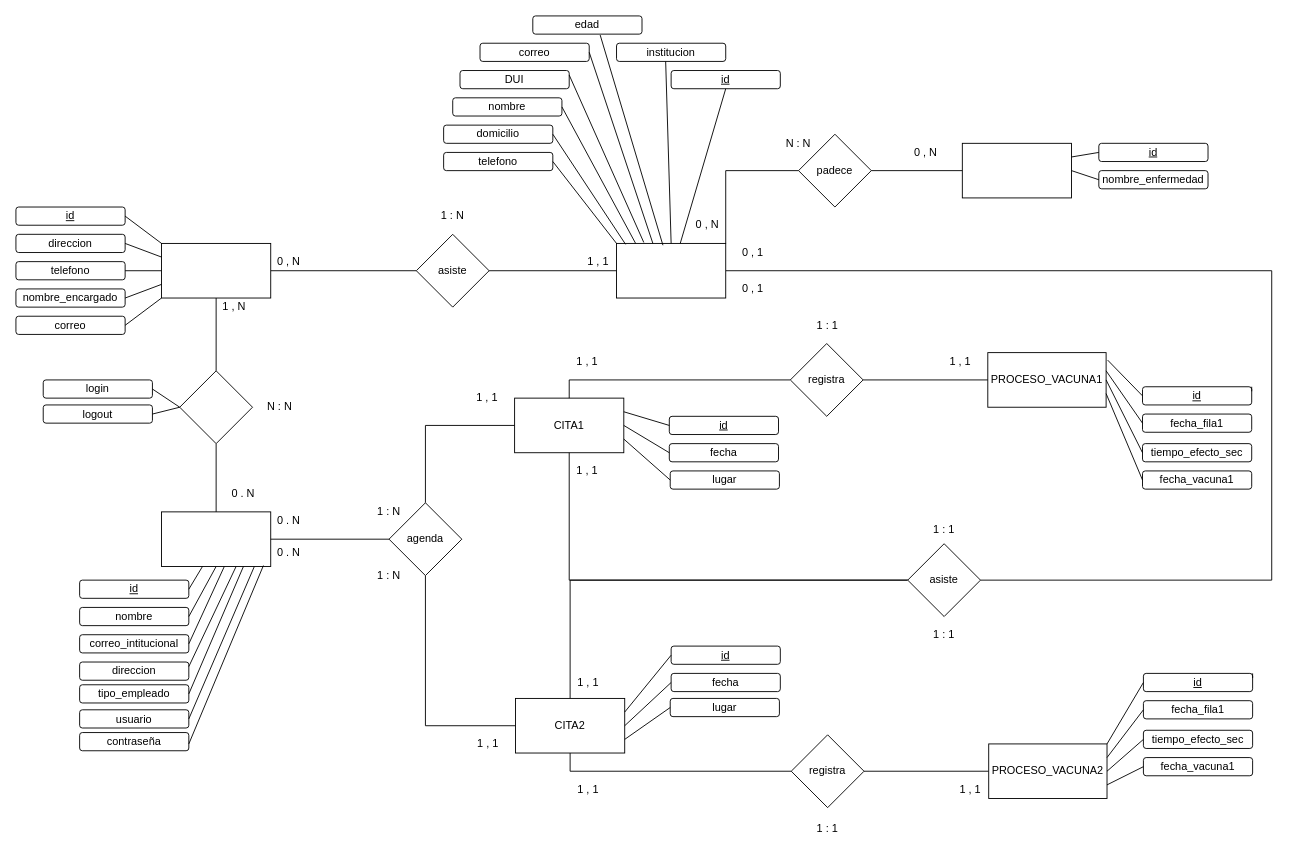
Some shapes in this 1289 by 853 pixel diagram are drawn without their labels. The centre of each missing label's shape, as x and y in pixels:
CABINA: the point at 216,270
CIUDADANO: the point at 671,270
EMPLEADO: the point at 216,538
ENFERMEDADES: the point at 1016,170
realiza: the point at 216,407
